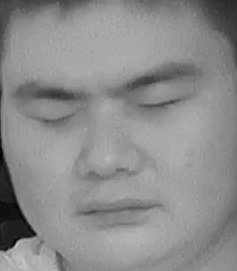blink: (27, 104, 81, 134), (139, 90, 185, 120)
mouth: (78, 186, 157, 236)
